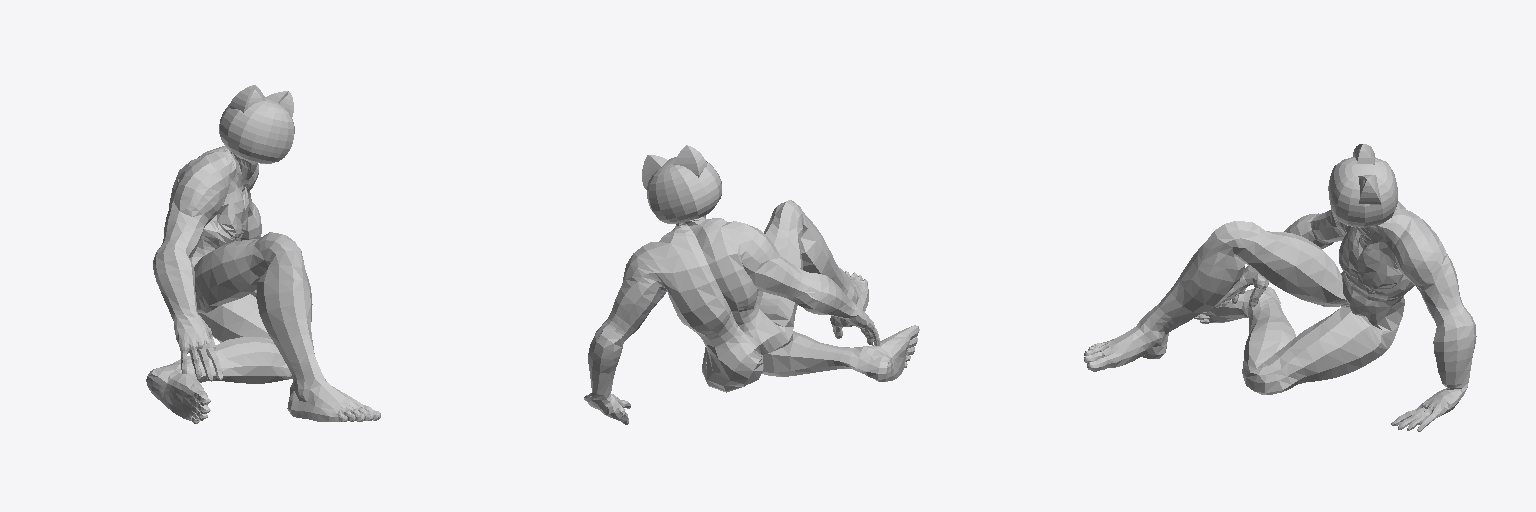
3 views of the same model, side by side, from view 1: azimuth 30°, elevation 25°; view 2: azimuth 150°, elevation 25°; view 3: azimuth 270°, elevation 25° (orthographic).
Visible parts, largest first — view 1: Muscle_Body, ______?001, Cat_Head; view 2: Muscle_Body, Cat_Head; view 3: Muscle_Body, Cat_Head, ______?001.
Part boxes in pixels (x1,y1,x2,y2): Muscle_Body: (146, 146, 380, 423); ______?001: (240, 104, 294, 163); Cat_Head: (219, 85, 293, 158); Muscle_Body: (584, 200, 919, 424); Cat_Head: (642, 145, 721, 223); Muscle_Body: (1084, 201, 1476, 431); Cat_Head: (1344, 144, 1397, 227); ______?001: (1328, 159, 1353, 225).
Size of the model in its own units: 14.41 by 15.87 by 21.51.